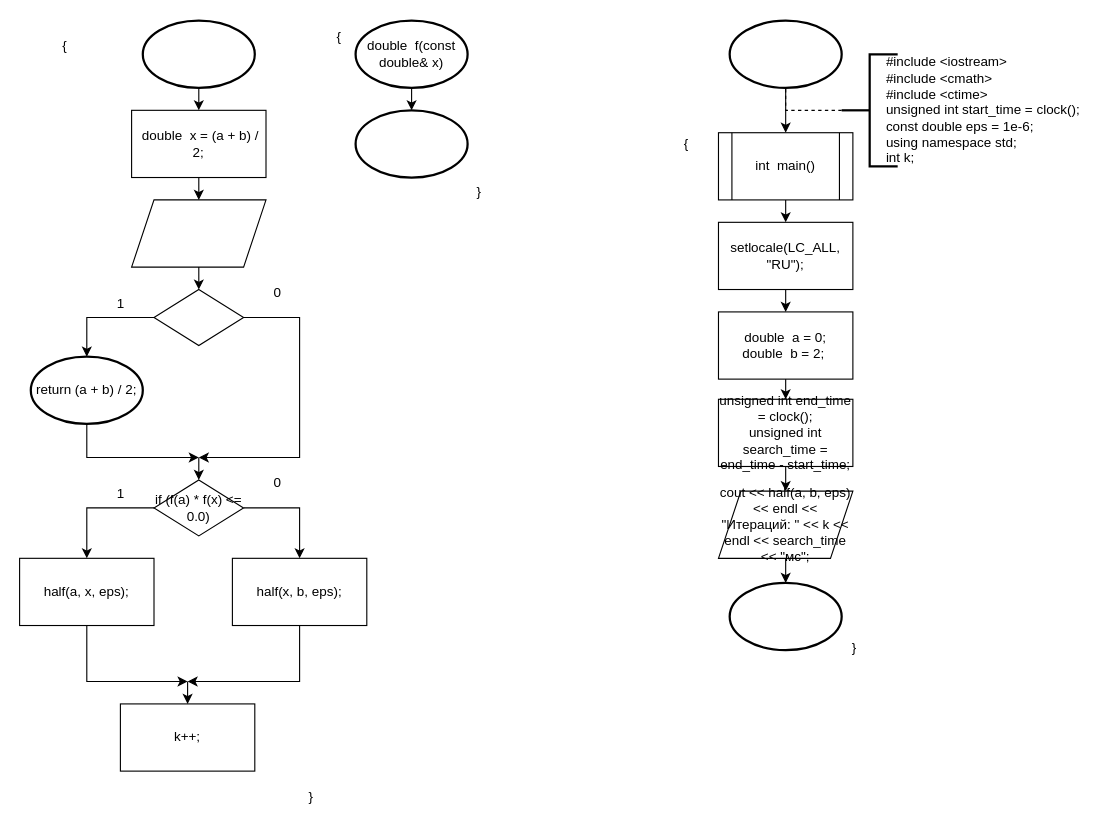
This 1114x832 diagram has some shape labels left out. Here are the shapes that lost their labels. From the top down, the centre of each, then its label:
the point at 198,53: double half(double a, double b, double eps)
the point at 785,53: Начало
the point at 411,143: return 0.25 * pow(x, 3) + x - 1.2502;
the point at 198,233: cout << x << endl;
the point at 198,317: if ((fabs(f(a) - f(b)) <= eps) and (fabs(f(x)) <= eps))
the point at 785,616: return 0;
